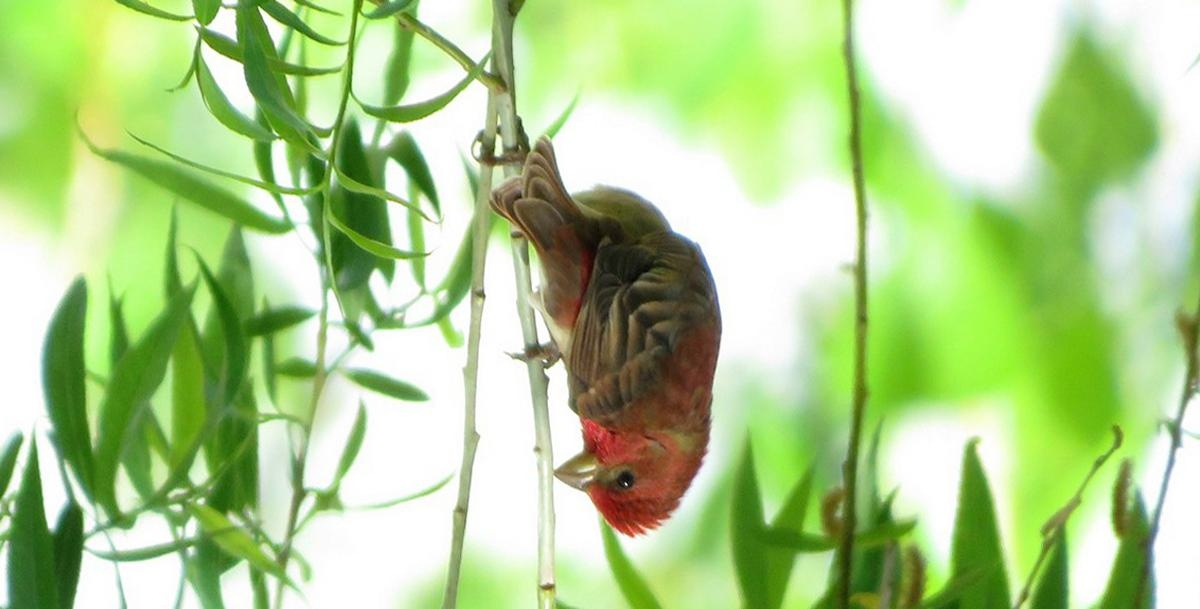rosefinch: (471, 131, 733, 536)
